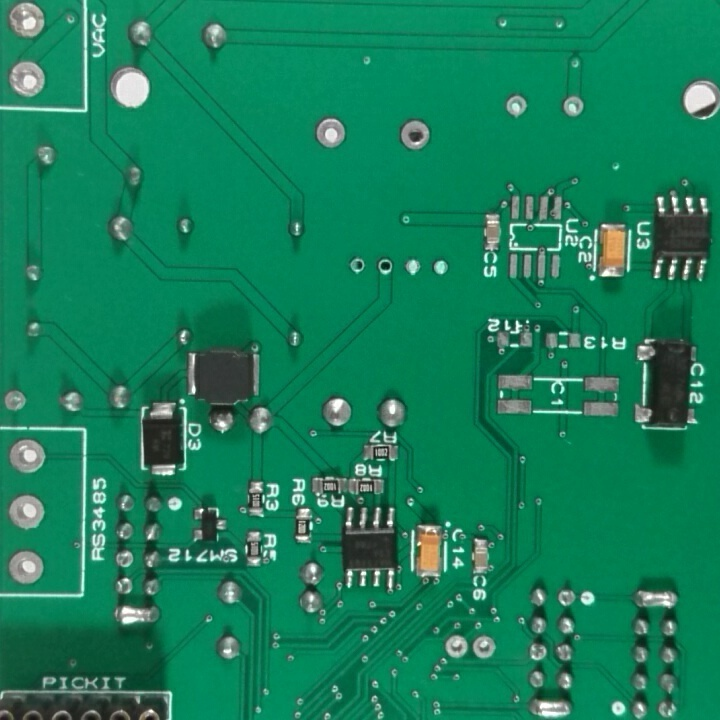F: (5, 1, 48, 41), (7, 490, 47, 533), (7, 60, 48, 101), (7, 549, 48, 590), (7, 435, 47, 477), (313, 114, 349, 151), (399, 119, 433, 155), (1, 386, 31, 417), (468, 634, 499, 663), (504, 91, 531, 122), (441, 632, 469, 660), (561, 93, 585, 123), (557, 586, 578, 611), (656, 699, 681, 720), (113, 549, 136, 570), (527, 642, 550, 663), (432, 257, 453, 278), (404, 256, 424, 278), (375, 256, 396, 276), (348, 255, 367, 275)
P: (630, 585, 682, 615), (108, 603, 164, 630), (523, 697, 575, 720)
